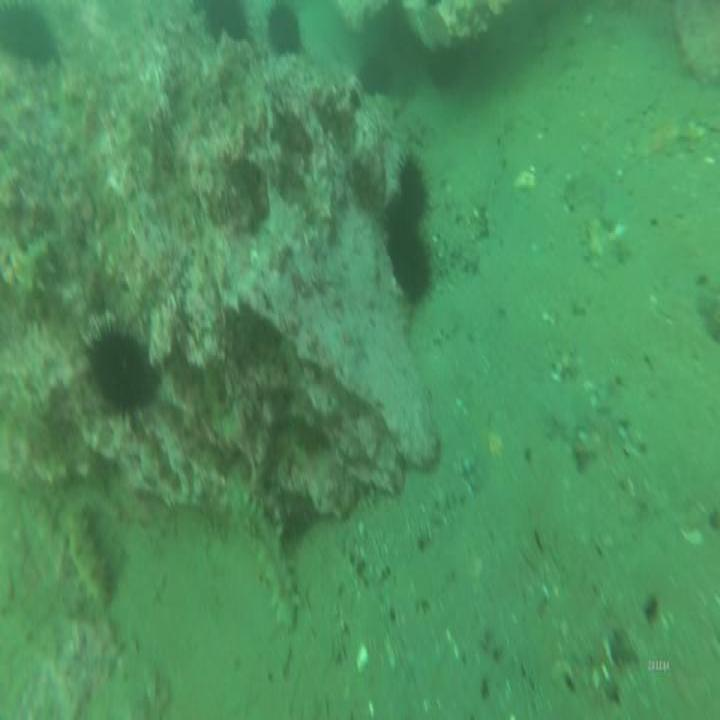echinus: (78, 306, 168, 441), (382, 214, 437, 308), (387, 151, 438, 226), (0, 0, 60, 62), (199, 2, 259, 48), (263, 6, 310, 62), (354, 49, 395, 100)
holothurian: (226, 473, 303, 635), (60, 496, 116, 615)
